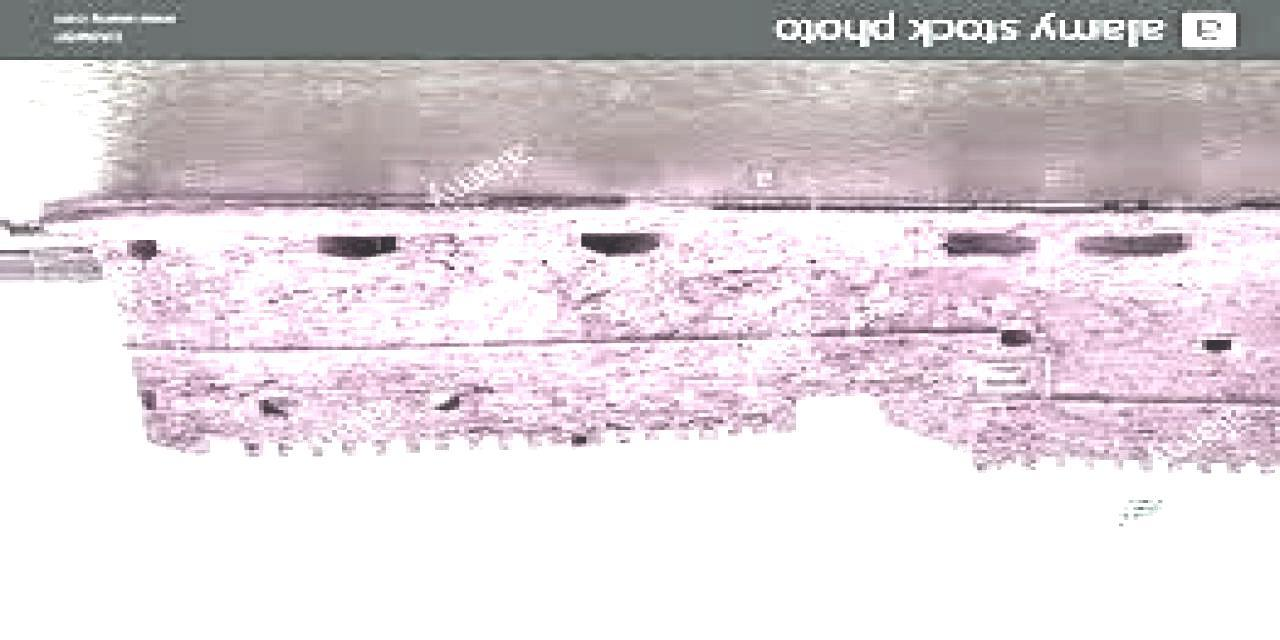Kules: (46, 199, 1280, 485)
